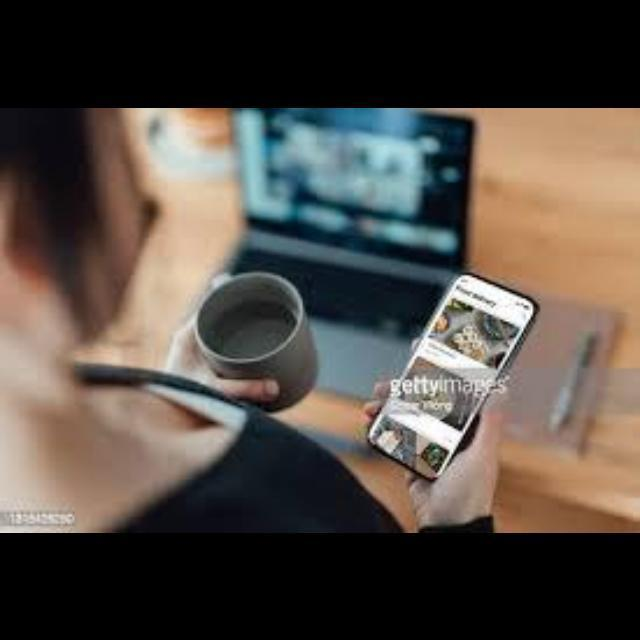phone: (376, 249, 543, 508)
